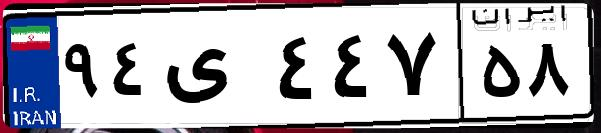4: (270, 28, 330, 110), (330, 28, 385, 110), (110, 28, 158, 98)
5: (475, 38, 525, 113)
7: (385, 28, 445, 110)
8: (525, 38, 570, 115)
9: (57, 26, 110, 100)
ی: (158, 20, 270, 120)
